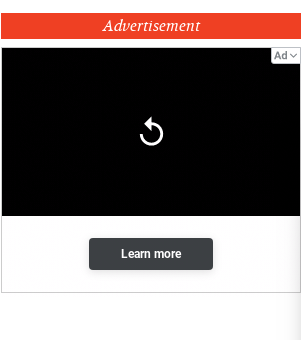fake_button: (79, 234, 220, 280), (259, 42, 301, 73)
